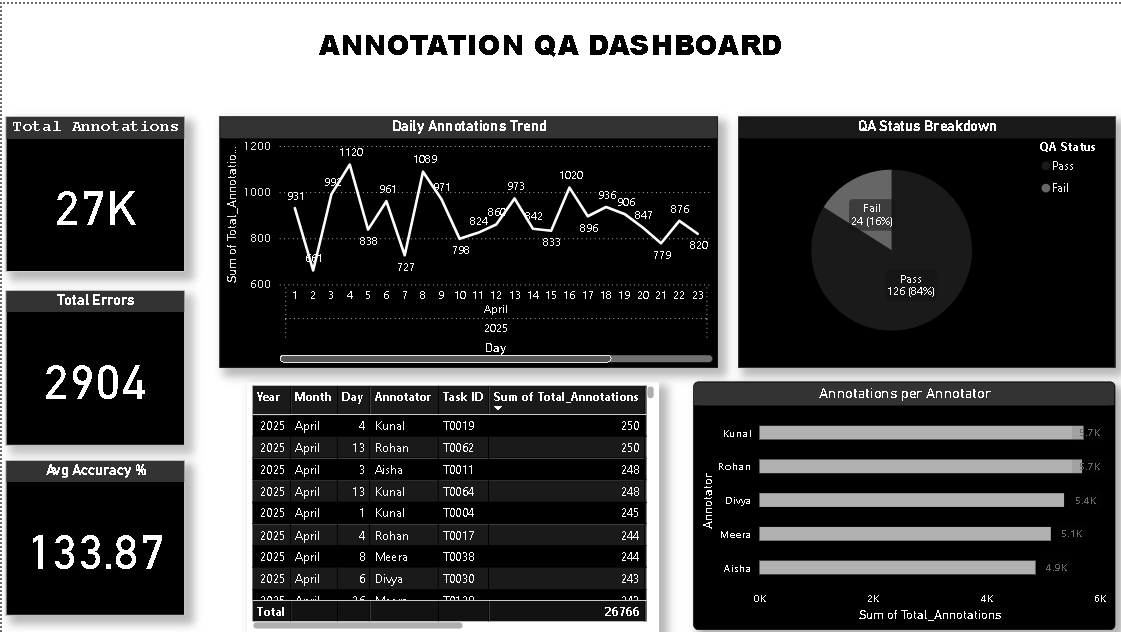

What the dashboard file says about the page in this screenshot:
{"tool":"powerbi","page":{"name":"Annotation_Quality_Dashboard1","canvas":[1280,720],"ordinal":0},"visuals":[{"type":"card","title":"Total Annotations","fields":{"Values":["annotation_quality_tracker.Total_Annotations"]},"box":[681.4,35.7,198.6,257.1],"z":0},{"type":"card","title":"Total Errors","fields":{"Values":["annotation_quality_tracker.Error_Count"]},"box":[880,35.7,194.3,254.3],"z":1000},{"type":"card","title":"Avg Accuracy %","fields":{"Values":["annotation_quality_tracker.Accuracy %"]},"box":[1074.3,35.7,194.3,258.6],"z":2000},{"type":"lineChart","title":"Daily Annotations Trend","fields":{"Y":["annotation_quality_tracker.Total_Annotations"],"Category":["annotation_quality_tracker.Date.Variation.Date Hierarchy.Year","annotation_quality_tracker.Date.Variation.Date Hierarchy.Month","annotation_quality_tracker.Date.Variation.Date Hierarchy.Day"]},"box":[10,35.7,671.4,257.1],"z":3000},{"type":"barChart","title":"Annotations per Annotator","fields":{"Y":["annotation_quality_tracker.Total_Annotations"],"Category":["annotation_quality_tracker.Annotator"]},"box":[471.4,294.3,442.9,425.7],"z":4000},{"type":"pieChart","title":"QA Status Breakdown","fields":{"Category":["annotation_quality_tracker.QA Status"],"Y":["annotation_quality_tracker.Task ID"]},"box":[914.3,382.9,362.9,337.1],"z":5000},{"type":"tableEx","fields":{"Values":["annotation_quality_tracker.Date.Variation.Date Hierarchy.Year","annotation_quality_tracker.Date.Variation.Date Hierarchy.Month","annotation_quality_tracker.Date.Variation.Date Hierarchy.Day","annotation_quality_tracker.Annotator","annotation_quality_tracker.Task ID","annotation_quality_tracker.Total_Annotations","annotation_quality_tracker.Error_Count","annotation_quality_tracker.Accuracy %","annotation_quality_tracker.QA Score"]},"box":[0,294.3,471.4,425.7],"z":6000},{"type":"textbox","box":[914.3,290,362.9,90],"z":7000}]}

Visuals, with their boxes in screenshot pixels (x1, y1, x2, y2), scaled from the page's 1280x720 canvas onto the 1121x632 screenshot:
"Total Annotations" card: [left=597, top=31, right=771, bottom=257]
"Total Errors" card: [left=771, top=31, right=941, bottom=255]
"Avg Accuracy %" card: [left=941, top=31, right=1111, bottom=258]
"Daily Annotations Trend" lineChart: [left=9, top=31, right=597, bottom=257]
"Annotations per Annotator" barChart: [left=413, top=258, right=801, bottom=631]
"QA Status Breakdown" pieChart: [left=801, top=336, right=1119, bottom=631]
tableEx - annotation_quality_tracker.Date.Variation.Date Hierarchy.Year x annotation_quality_tracker.Date.Variation.Date Hierarchy.Month: [left=0, top=258, right=413, bottom=631]
textbox: [left=801, top=255, right=1119, bottom=334]
